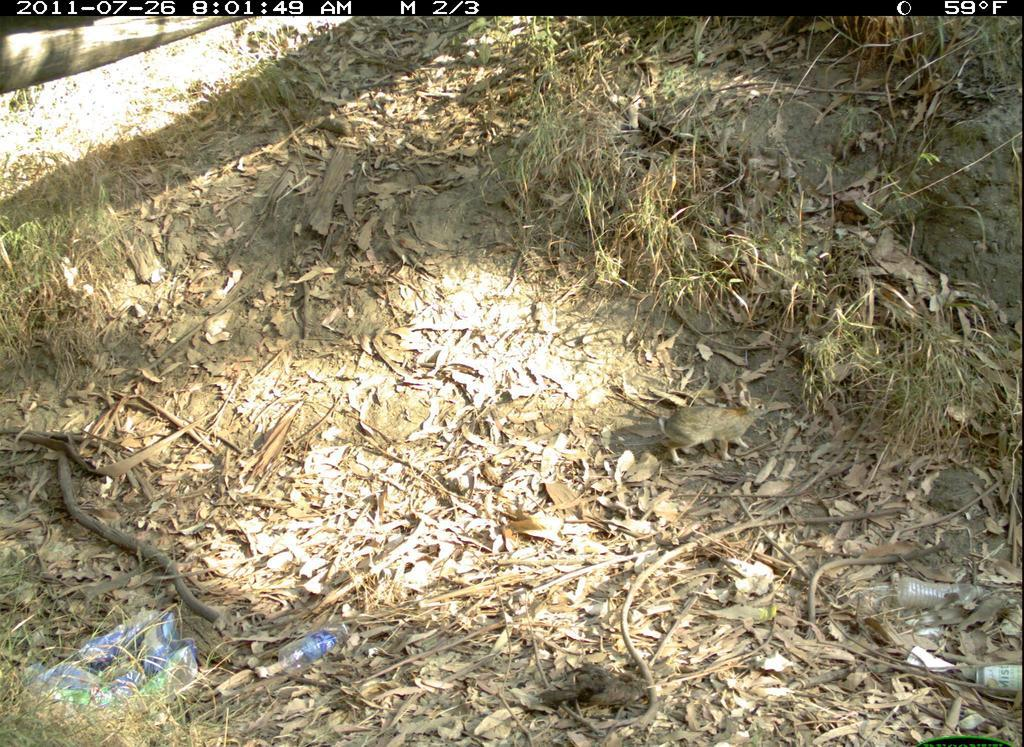rabbit: (650, 380, 783, 471)
